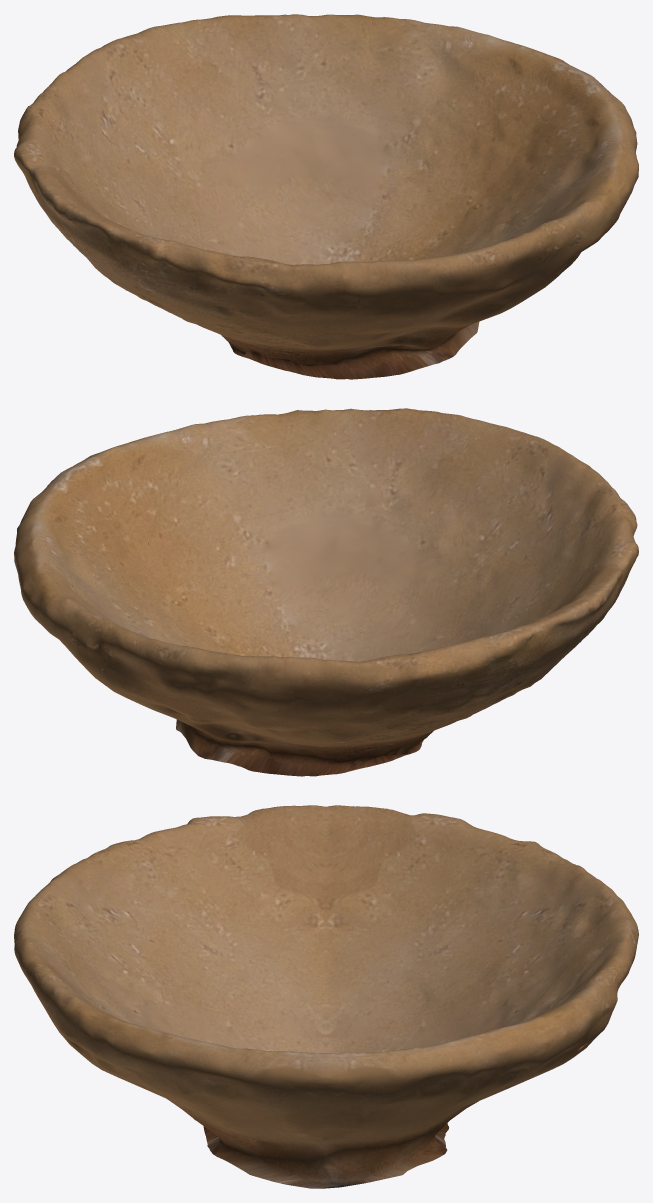
File: Pinakio2.fbx
3 renders of one model, top to bottom at view 1: azimuth 30°, elevation 25°; view 2: azimuth 150°, elevation 25°; view 3: azimuth 270°, elevation 25°, orthographic. The views are drawn at different scales.
Parts seen in each view (by area): view 1: Pinakio2-video; view 2: Pinakio2-video; view 3: Pinakio2-video.
Boxes of the visible parts, bbox=[...] form: Pinakio2-video: bbox=[14, 14, 638, 379]; Pinakio2-video: bbox=[14, 408, 638, 776]; Pinakio2-video: bbox=[14, 805, 638, 1188].
Size of the model in its own units: 8.35 by 8.47 by 2.88.
2 materials, 2 textured.
